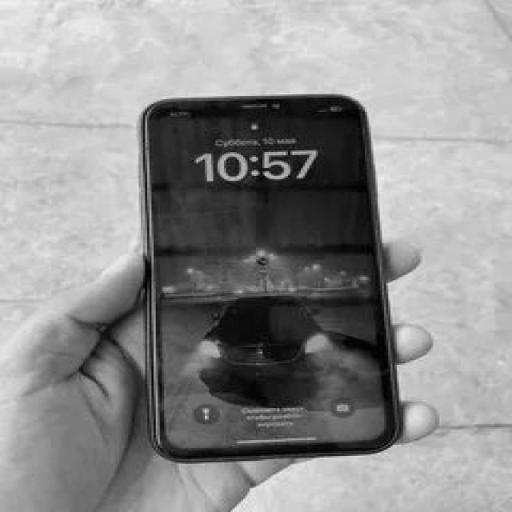phone: (144, 89, 404, 468)
